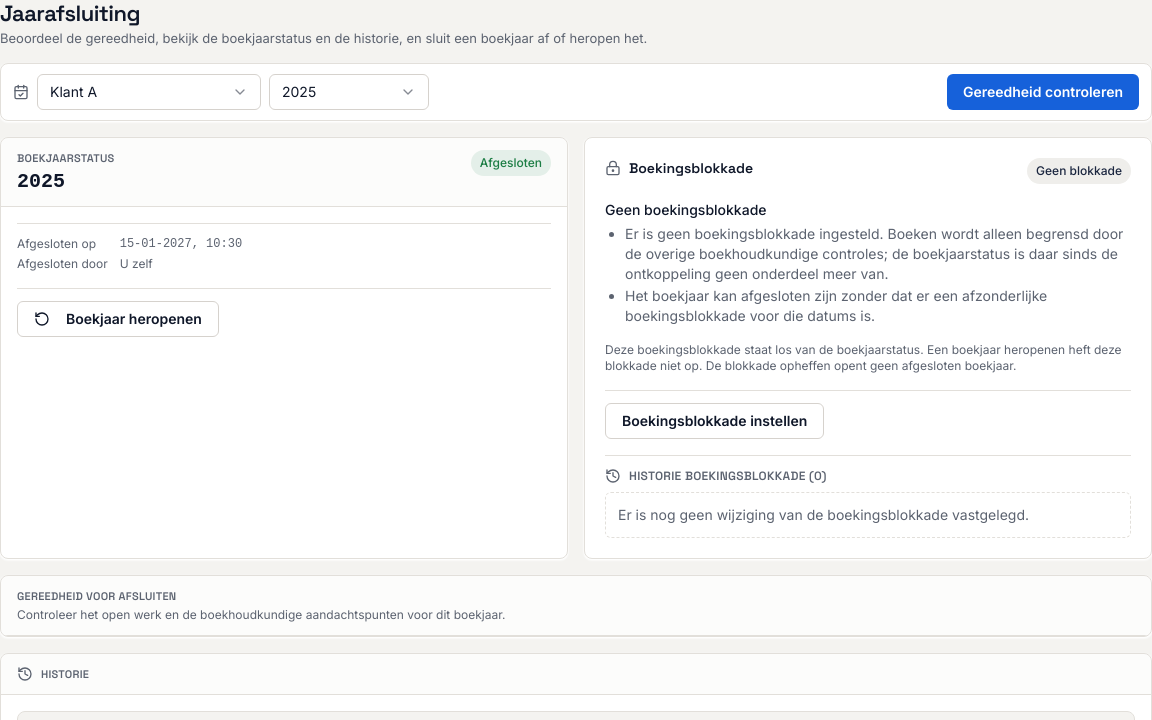
Test: Als de database weigert › 9b. een inconsistente levensloop is een blokkade, geen succes
Click the button with test id "jaar-heropenen" at (118, 319), box [17,301,219,337]
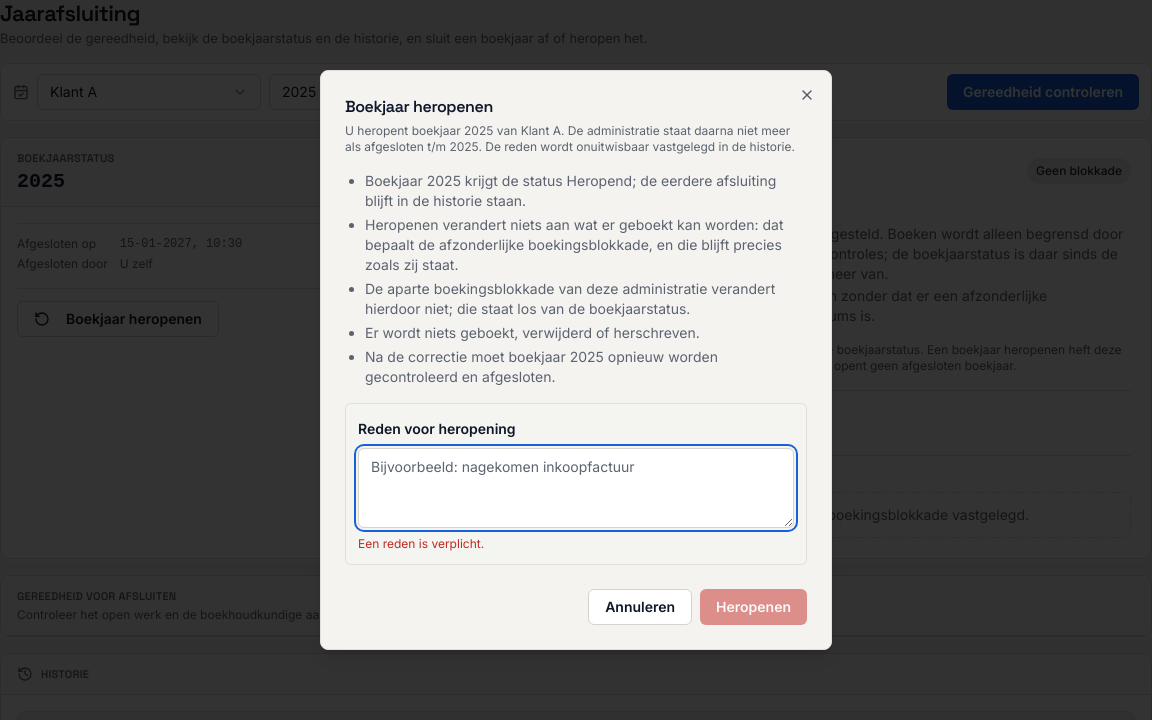
Type "Nagekomen inkoopfactuur" into the text box with test id "jaar-heropenen-reden" at (576, 488), box [358,448,794,528]
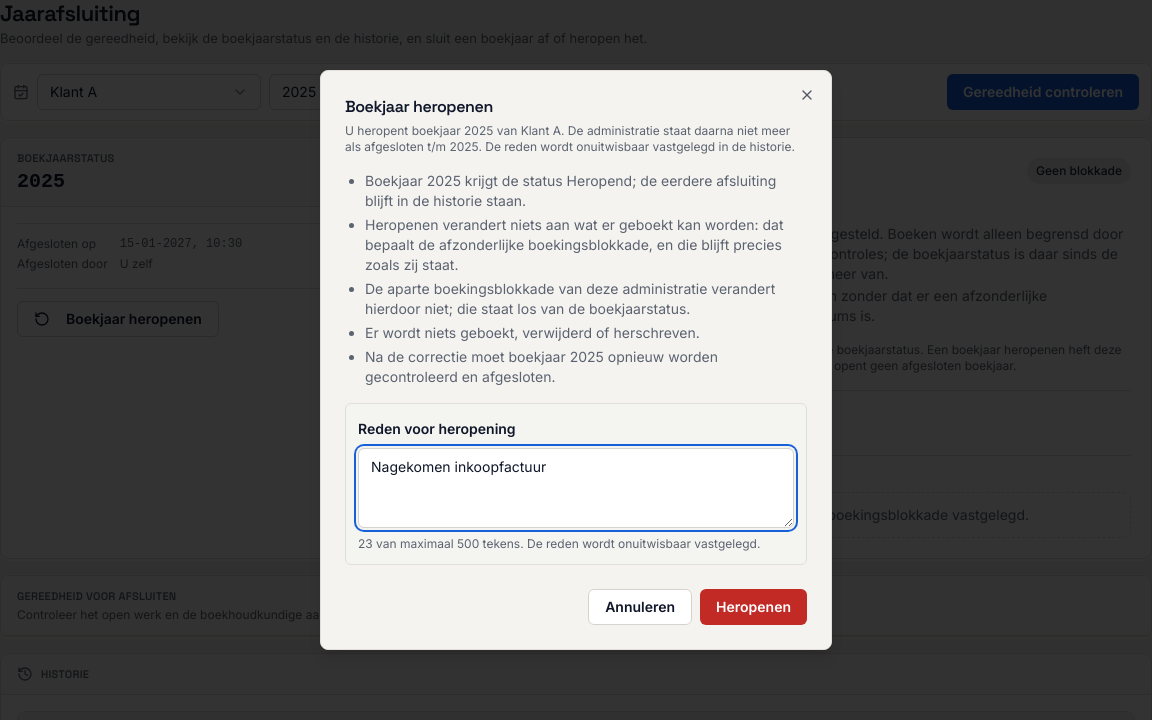
Click the button with test id "jaar-heropenen-bevestigen" at (754, 607), box [700,589,807,625]
(page scrolled)
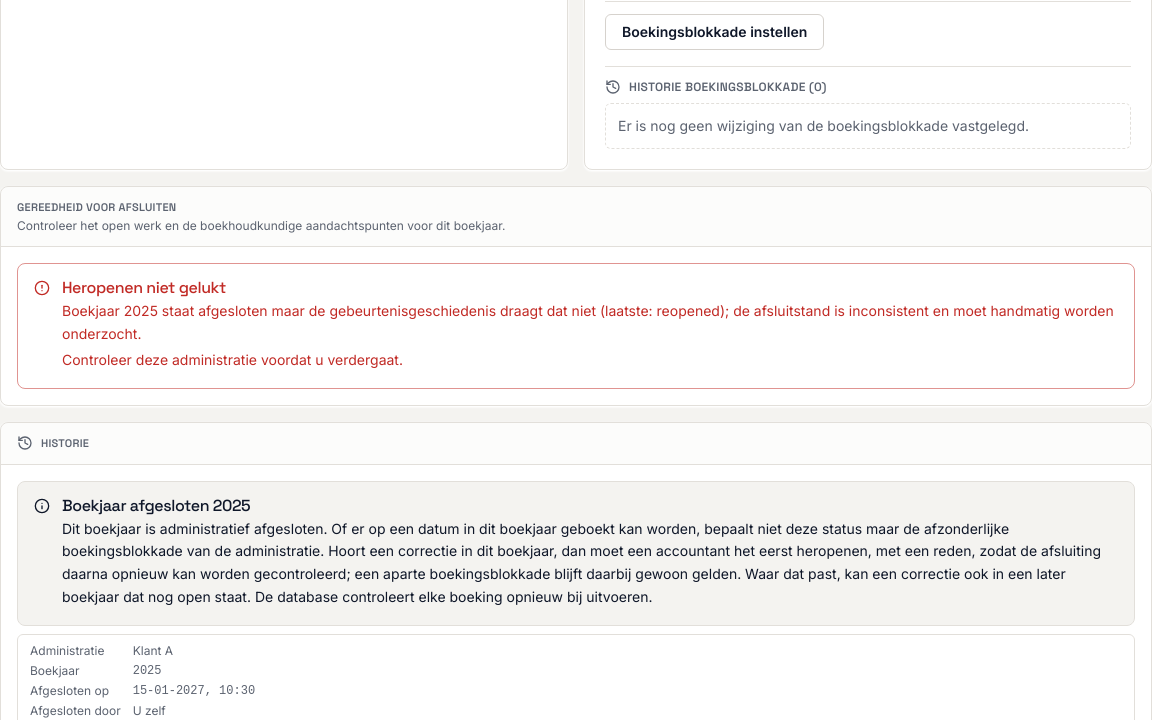
Expected: the text with test id "jaar-heropenadvies" reads "Controleer deze administratie voordat u verdergaat.", [62,351,403,368]
